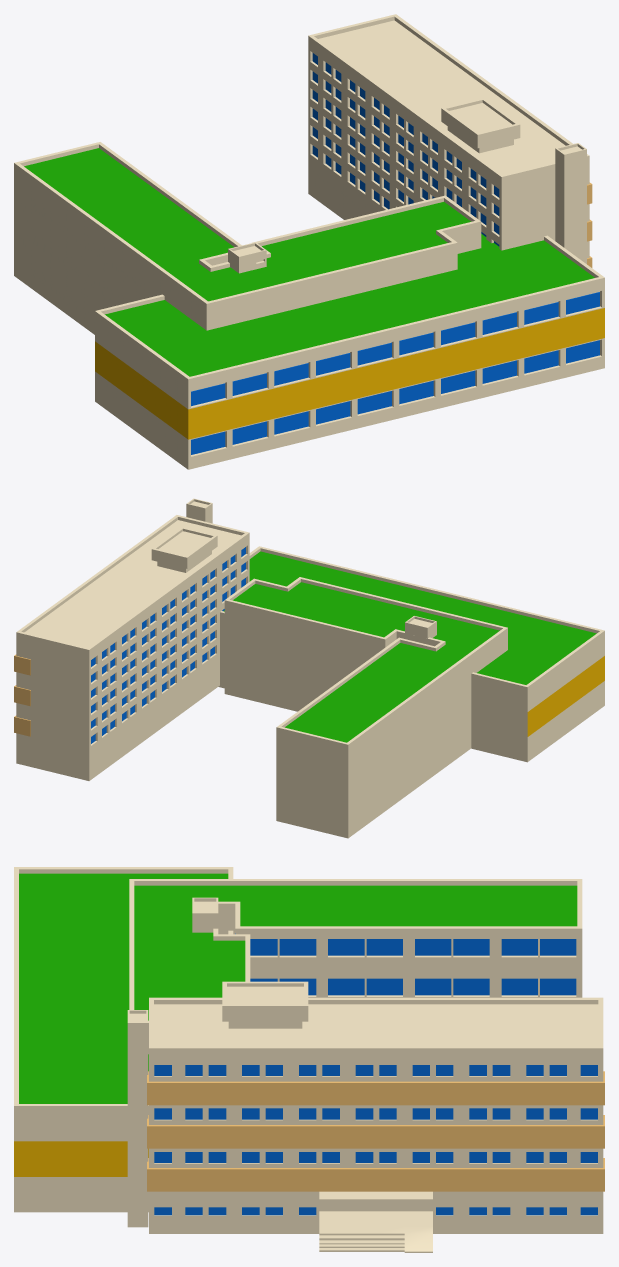
Rendered from 제1공학관.fbx.
The picture shows the model from 3 angles, top to bottom: view 1: azimuth 30°, elevation 25°; view 2: azimuth 150°, elevation 25°; view 3: azimuth 270°, elevation 25°; orthographic projection. The views are drawn at different scales.
Parts seen in each view (by area): view 1: Cube_3_2, Cube_4, Cube, Cube_75, Cube_139, Cube_2_2, Cube_6, Cube_7; view 2: Cube_4, Cube, Cube_3_2, Cube_139, Cube_6, Cube_7, Cube_2_2; view 3: Cube, Cube_4, Cube_3_2, Cube_3, Cube_2, Cube_1, Cube_68, Cube_74, Cube_2_2, Cube_6, Cube_67, Cube_66 (+1 smaller).
Boxes of the visible parts, <box> form: Cube_3_2: <box>95,234,604,469</box>; Cube_4: <box>14,142,481,334</box>; Cube: <box>308,14,589,258</box>; Cube_75: <box>191,292,599,454</box>; Cube_139: <box>312,53,499,246</box>; Cube_2_2: <box>555,143,586,263</box>; Cube_6: <box>441,98,520,153</box>; Cube_7: <box>228,242,266,273</box>; Cube_4: <box>224,577,507,838</box>; Cube: <box>16,515,249,780</box>; Cube_3_2: <box>218,546,604,762</box>; Cube_139: <box>91,547,245,743</box>; Cube_6: <box>151,527,217,572</box>; Cube_7: <box>405,616,436,638</box>; Cube_2_2: <box>186,498,212,523</box>; Cube: <box>149,997,603,1252</box>; Cube_4: <box>129,879,582,1054</box>; Cube_3_2: <box>14,867,233,1212</box>; Cube_3: <box>147,1071,604,1105</box>; Cube_2: <box>147,1158,604,1191</box>; Cube_1: <box>147,1115,604,1148</box>; Cube_68: <box>154,1065,597,1162</box>; Cube_74: <box>235,933,576,995</box>; Cube_2_2: <box>127,1010,148,1227</box>; Cube_6: <box>222,981,308,1028</box>; Cube_67: <box>154,1207,316,1215</box>; Cube_66: <box>436,1207,597,1215</box>.
Bounding box in the file's own units: 1342 × 464 × 1190.
